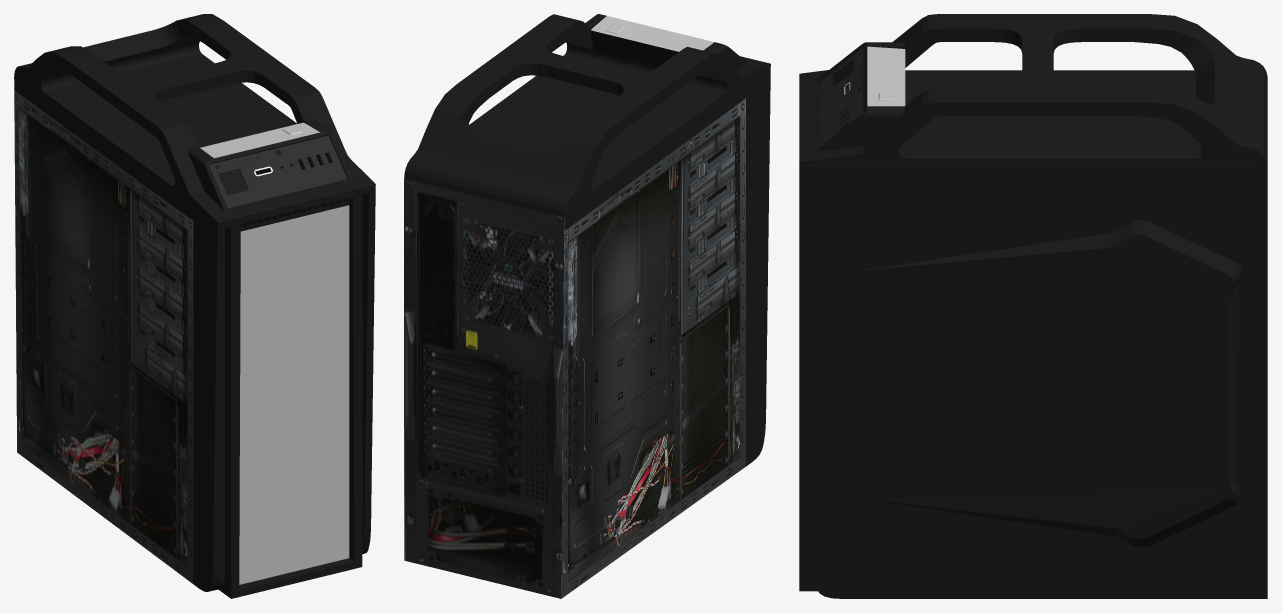
3 renders of one model, left to right at view 1: azimuth 30°, elevation 25°; view 2: azimuth 150°, elevation 25°; view 3: azimuth 270°, elevation 25°, orthographic. The views are drawn at different scales.
Visible parts, largest first — view 1: Box01; view 2: Box01; view 3: Box01.
Part boxes in pixels (<box>): Box01: <box>14,14,375,598</box>; Box01: <box>404,14,770,598</box>; Box01: <box>799,14,1267,598</box>.
Bounding box in the file's own units: 9 × 22.45 × 19.2.
